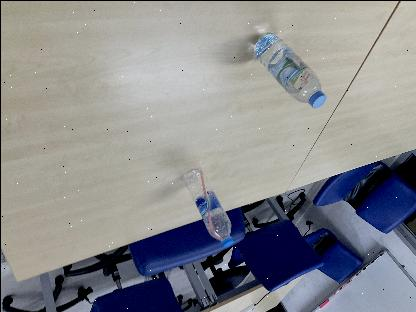Plastic Bottle: (252, 32, 326, 108), (181, 166, 233, 248)
